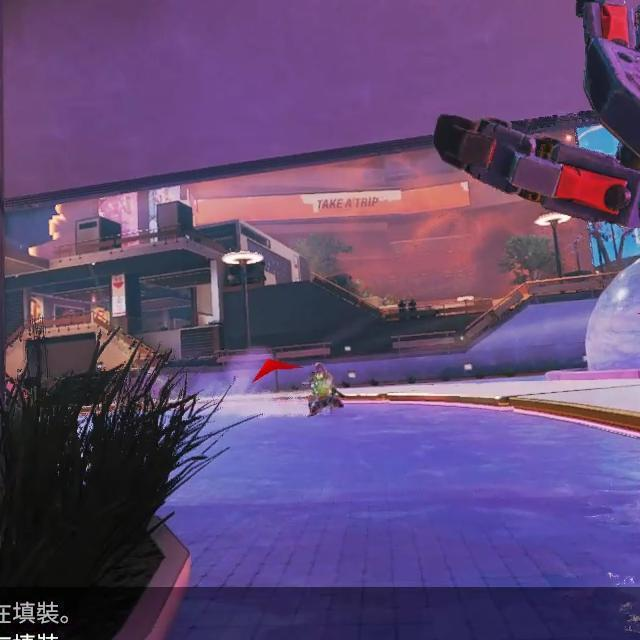avatar: (303, 361, 345, 417)
